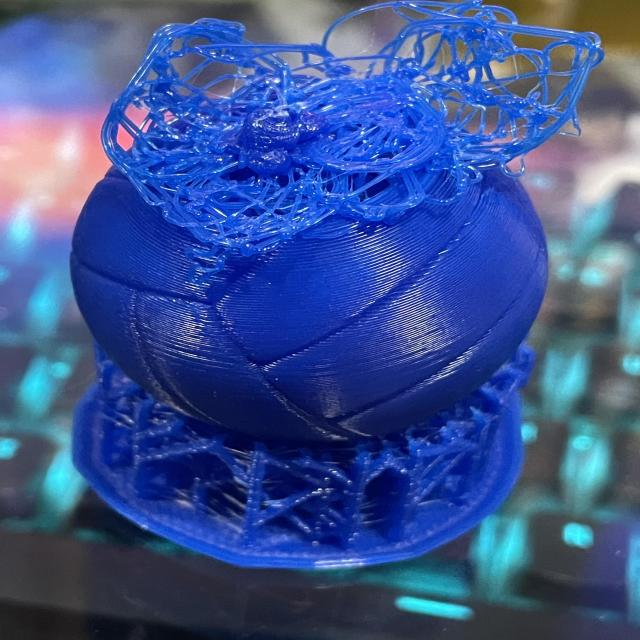Spaghetti: (98, 2, 604, 252)
